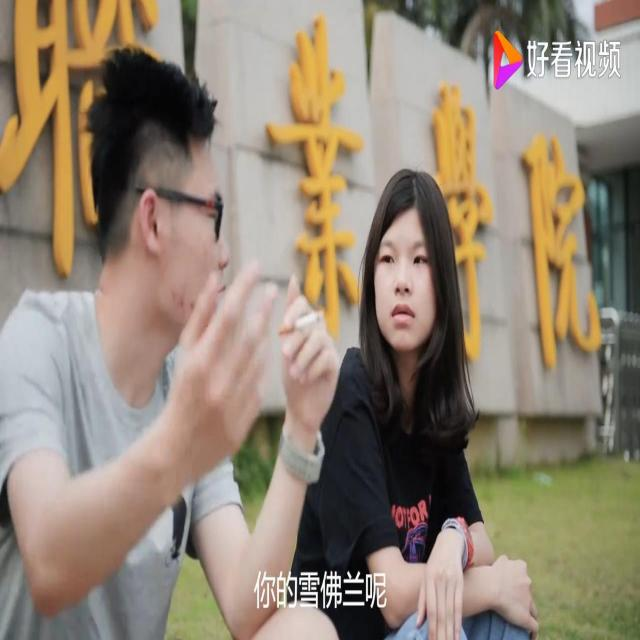cigarette: (276, 303, 326, 344)
